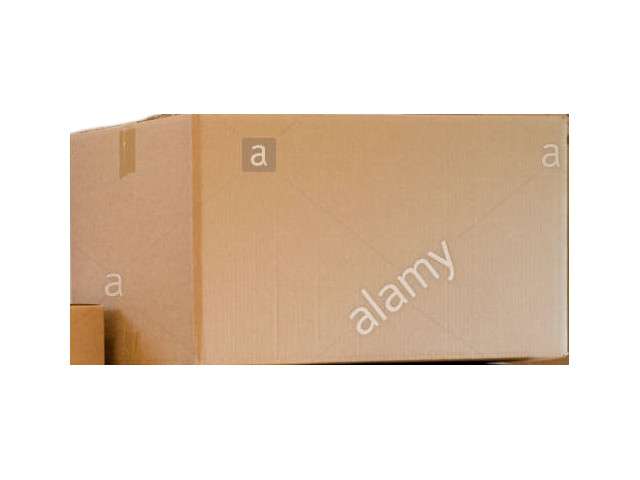cardboard: (71, 113, 568, 362)
